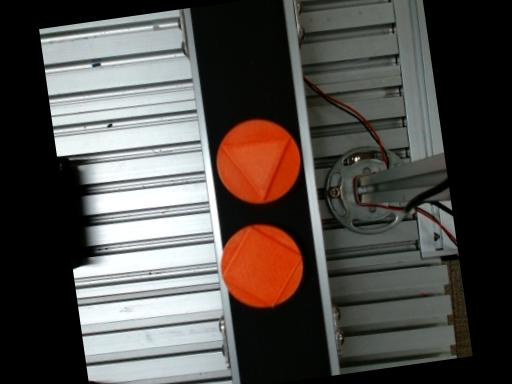Not_Square: (221, 134, 292, 202)
Orange_Waper: (216, 117, 300, 202), (222, 223, 303, 306)
Square: (222, 225, 302, 306)
